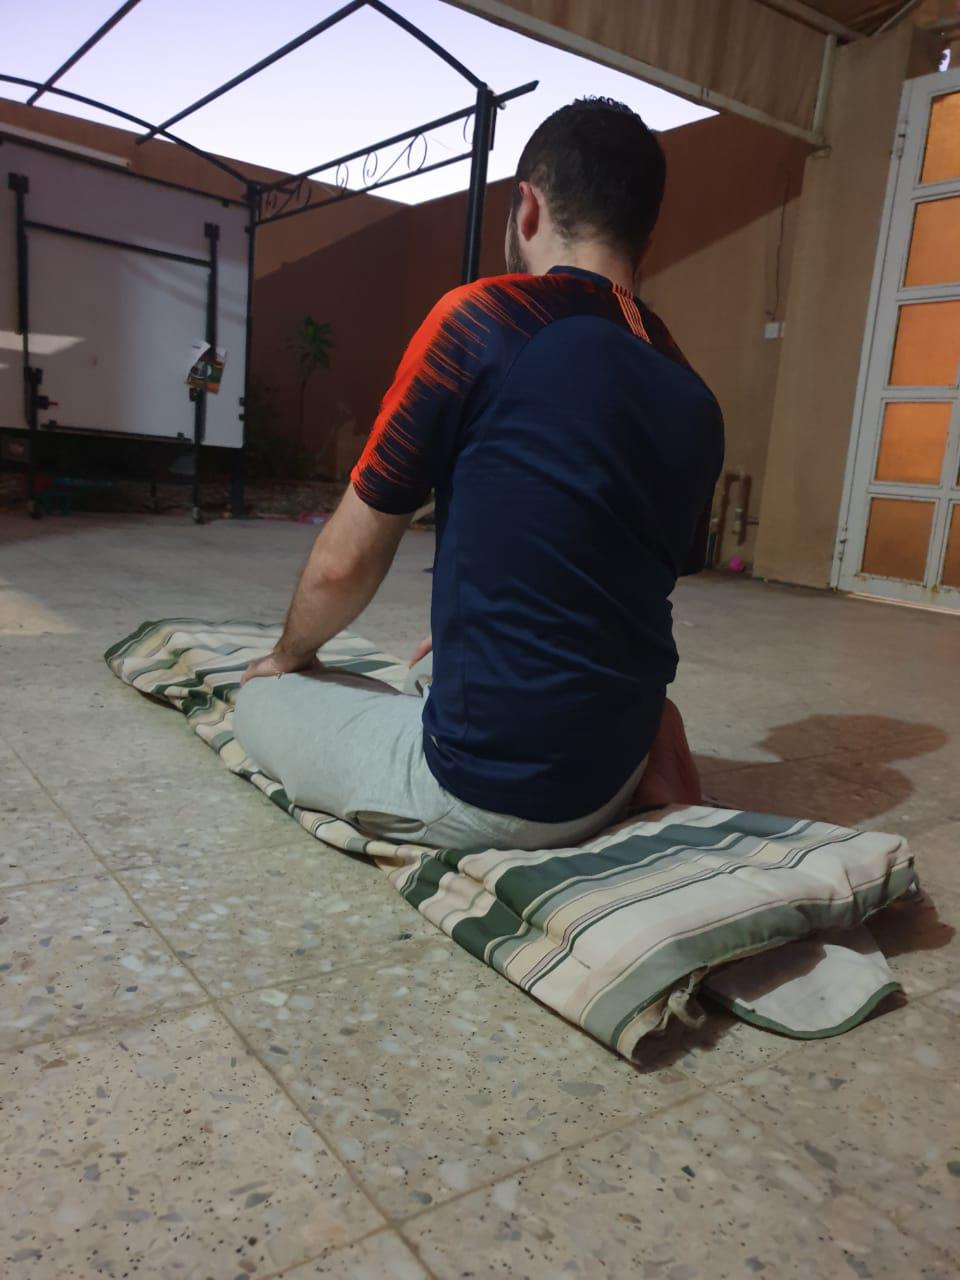julus: (230, 86, 732, 883)
